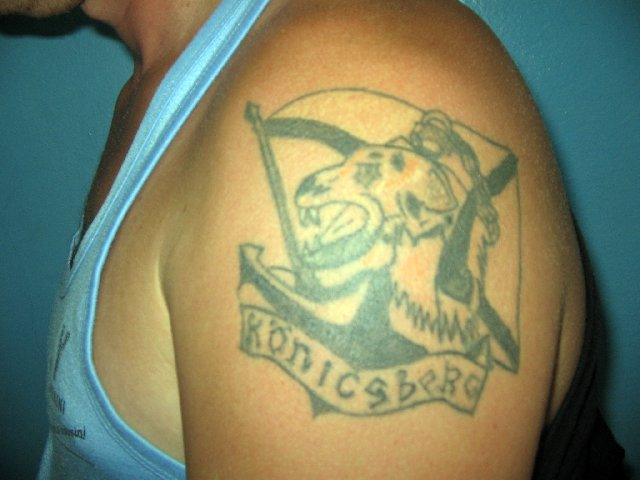tatu3_bukva: (235, 303, 498, 417)
tatu4_zvezda: (293, 143, 460, 263)
